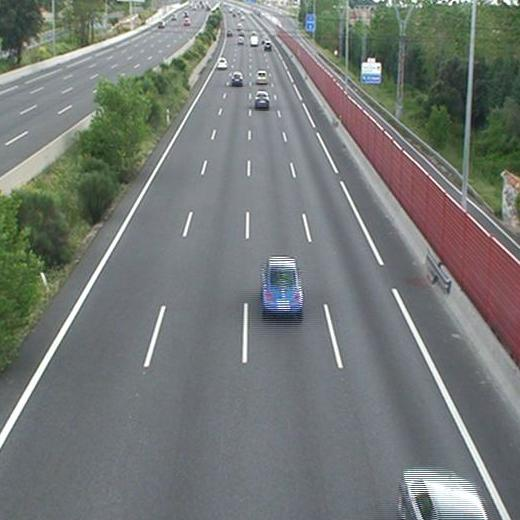car: (400, 470, 486, 520), (262, 257, 302, 315), (255, 90, 269, 107), (256, 70, 269, 84), (231, 73, 242, 85), (216, 58, 227, 69), (264, 41, 273, 52)
van: (250, 33, 258, 48)
